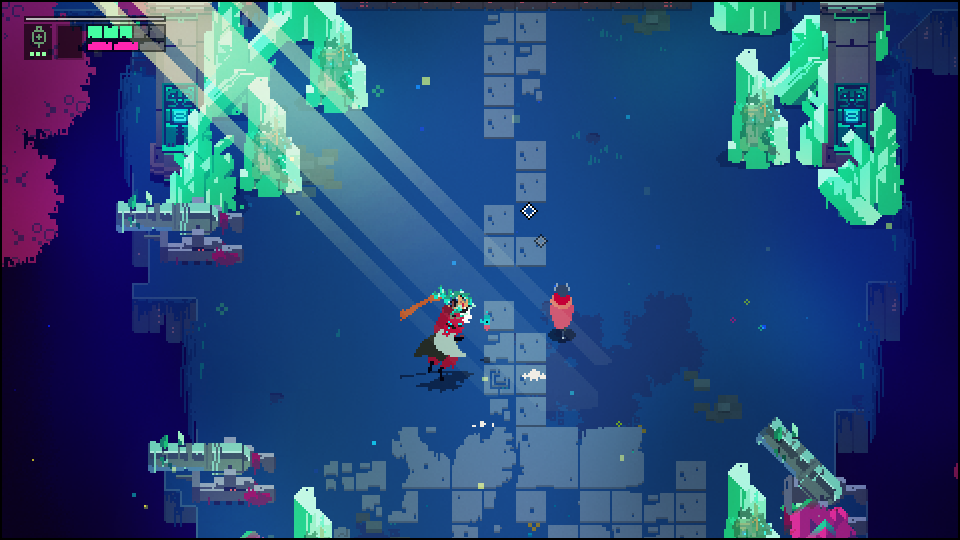hanged_man: (400, 283, 474, 388)
player: (547, 280, 579, 346)
